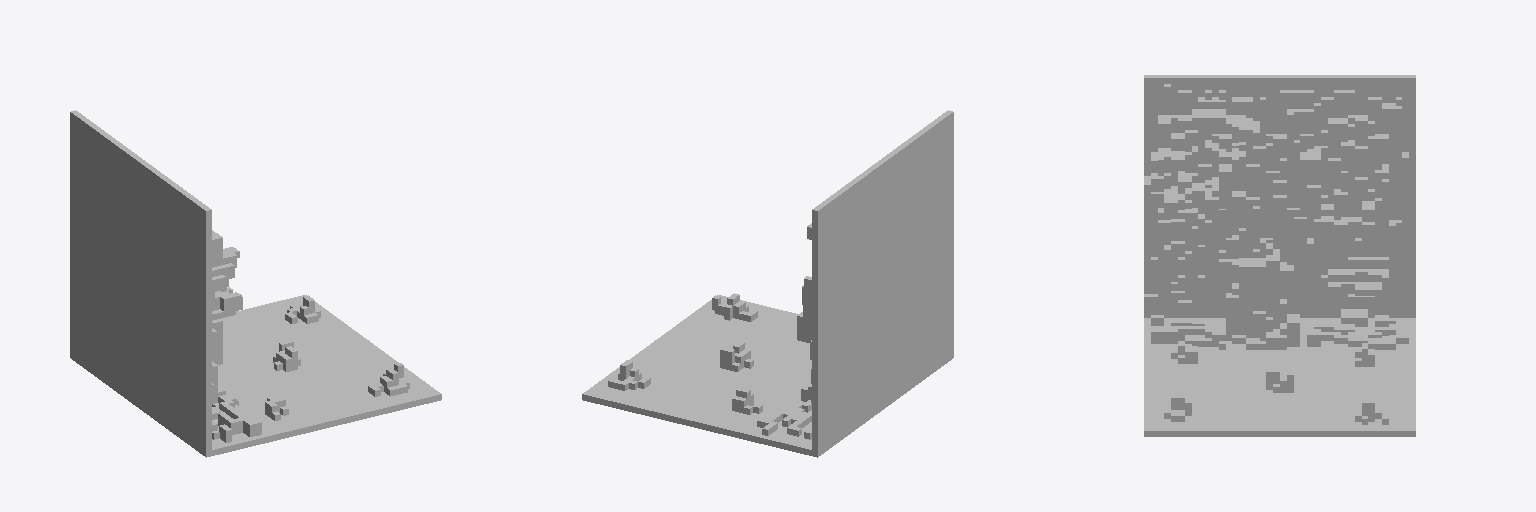
File: Bane 1.obj
3 views of the same model, side by side, from view 1: azimuth 30°, elevation 25°; view 2: azimuth 150°, elevation 25°; view 3: azimuth 270°, elevation 25° (orthographic).
Size of the model in its own units: 40 by 40 by 40.